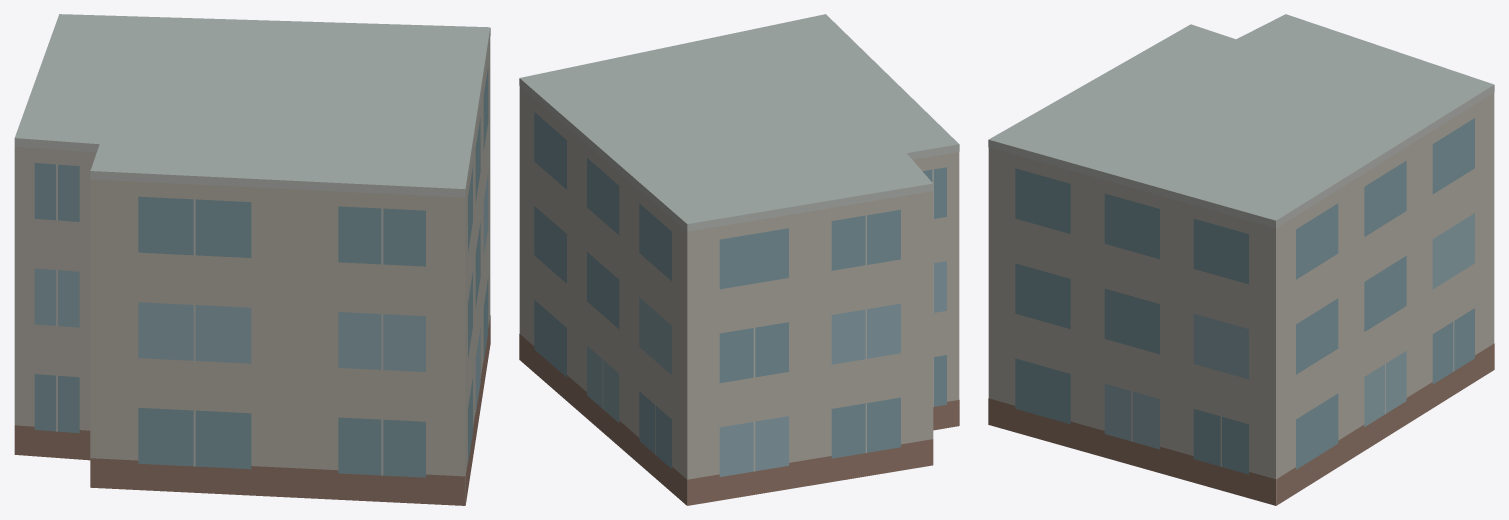
Rendered from survey-upis-32494544.glb.
3 views of the same model, side by side, from view 1: azimuth 30°, elevation 25°; view 2: azimuth 150°, elevation 25°; view 3: azimuth 270°, elevation 25° (orthographic). The views are drawn at different scales.
Parts seen in each view (by area): view 1: survey-upis-32494544.tmp; view 2: survey-upis-32494544.tmp; view 3: survey-upis-32494544.tmp.
Part boxes in pixels (<box>): survey-upis-32494544.tmp: <box>14,14,490,505</box>; survey-upis-32494544.tmp: <box>519,14,959,505</box>; survey-upis-32494544.tmp: <box>988,14,1494,505</box>.
Bounding box in the file's own units: 14.23 × 9.15 × 14.72.
